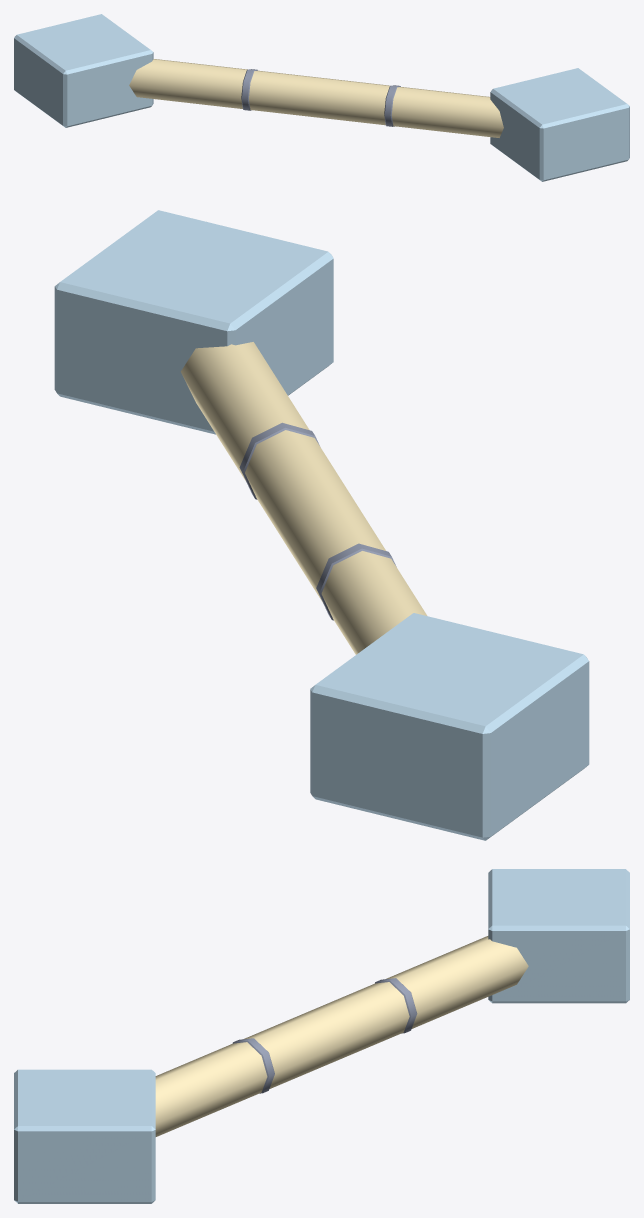
The model's file is R4C_ROD_DIAG_2D_LONG_LOD1.glb.
The picture shows the model from 3 angles, top to bottom: view 1: azimuth 30°, elevation 25°; view 2: azimuth 150°, elevation 25°; view 3: azimuth 270°, elevation 25°; orthographic projection. The views are drawn at different scales.
Parts seen in each view (by area): view 1: R4C_ROD_DIAG_2D_LONG_LOD1; view 2: R4C_ROD_DIAG_2D_LONG_LOD1; view 3: R4C_ROD_DIAG_2D_LONG_LOD1.
Boxes of the visible parts, bbox=[...] form: R4C_ROD_DIAG_2D_LONG_LOD1: bbox=[14, 14, 629, 181]; R4C_ROD_DIAG_2D_LONG_LOD1: bbox=[54, 210, 589, 840]; R4C_ROD_DIAG_2D_LONG_LOD1: bbox=[14, 869, 629, 1203].
Size of the model in its own units: 1.62 by 0.226 by 1.62.
